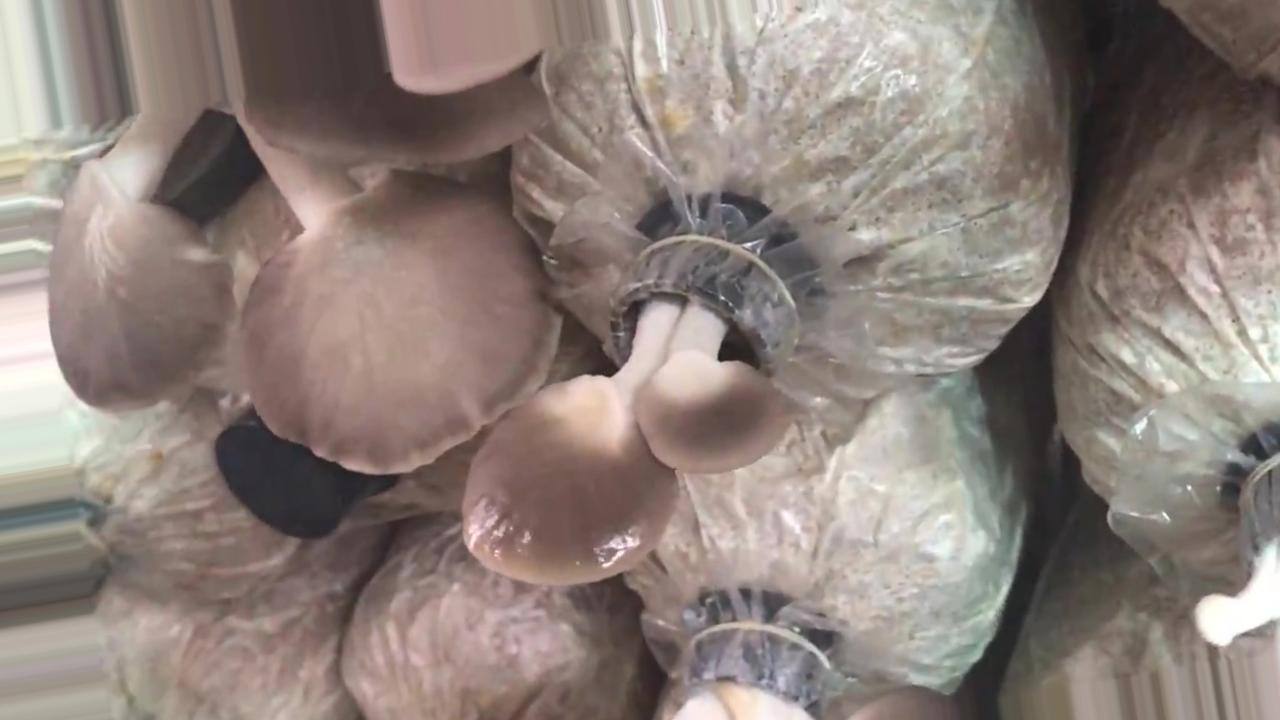nam: (45, 1, 560, 477), (461, 230, 792, 587)
